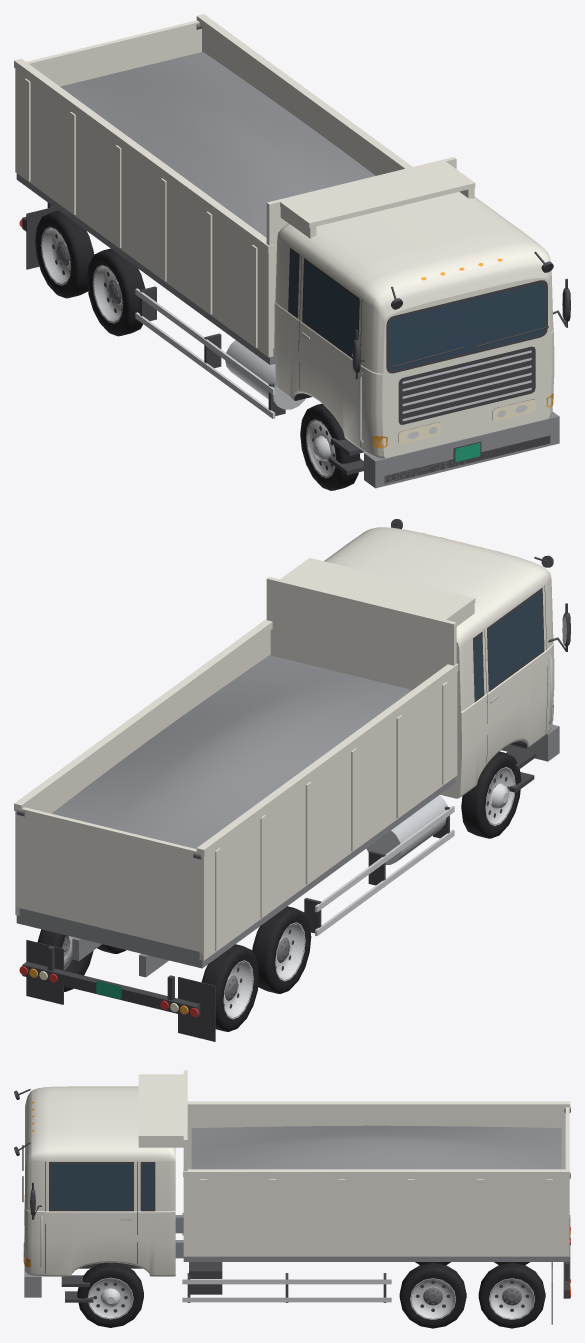
File: 363_close.fbx
3 views of the same model, one above another, from view 1: azimuth 30°, elevation 25°; view 2: azimuth 150°, elevation 25°; view 3: azimuth 270°, elevation 25° (orthographic). The views are drawn at different scales.
Parts seen in each view (by area): view 1: 363_close; view 2: 363_close; view 3: 363_close.
Part boxes in pixels (x1,y1,x2,y2): 363_close: (14,14,570,490); 363_close: (14,519,570,1041); 363_close: (14,1070,570,1328).
Bounding box in the file's own units: 2.84 × 3.14 × 8.33.
